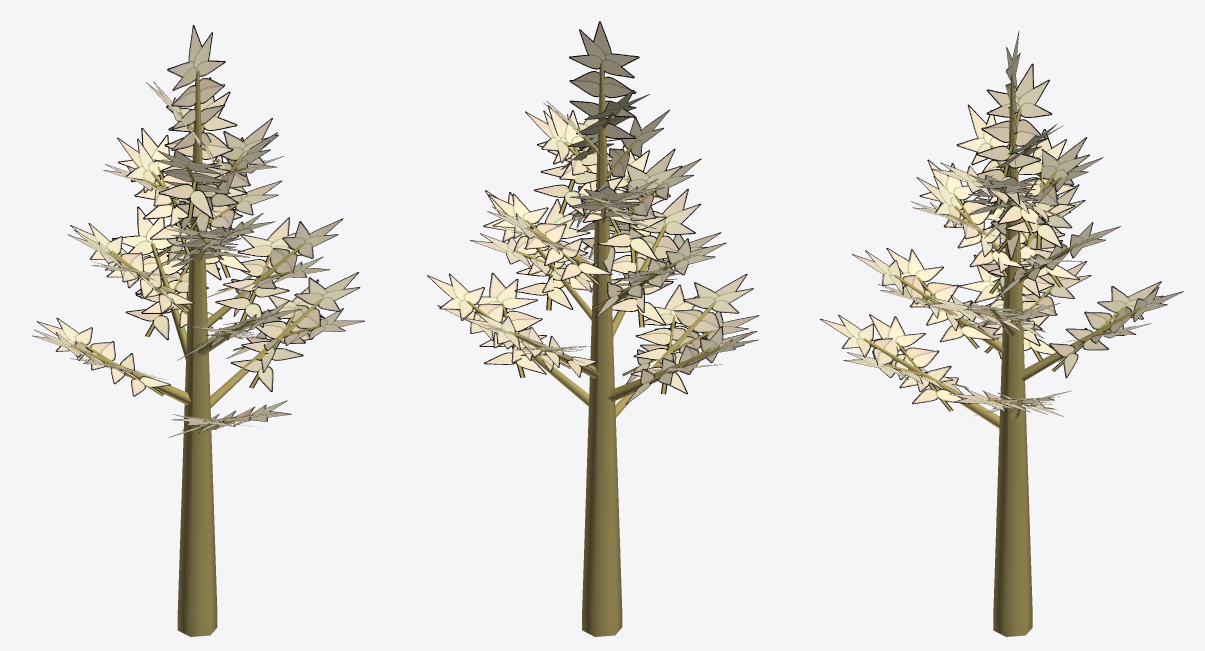
File: poplar-ivory.gltf
3 views of the same model, side by side, from view 1: azimuth 30°, elevation 25°; view 2: azimuth 150°, elevation 25°; view 3: azimuth 270°, elevation 25° (orthographic). The views are drawn at different scales.
Visible parts, largest first — view 1: leaves, bark; view 2: leaves, bark; view 3: leaves, bark.
Boxes of the visible parts, x1,y1,x2,y2 form: leaves: (32,25,364,437); bark: (71,70,322,636); leaves: (427,21,759,404); bark: (467,63,722,636); leaves: (820,31,1183,416); bark: (863,74,1141,636).
Size of the model in its own units: 1.91 by 3.32 by 1.91.
2 materials, 1 textured.
